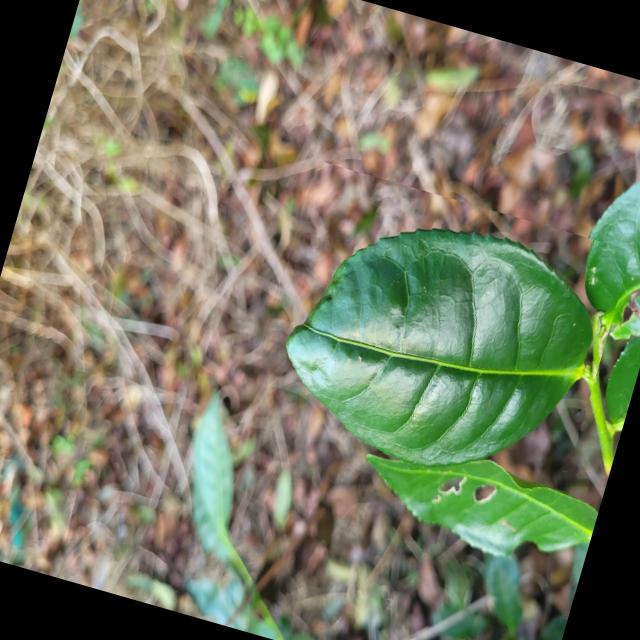Category D(7+ days, Not for Tea): (236, 157, 632, 514)
